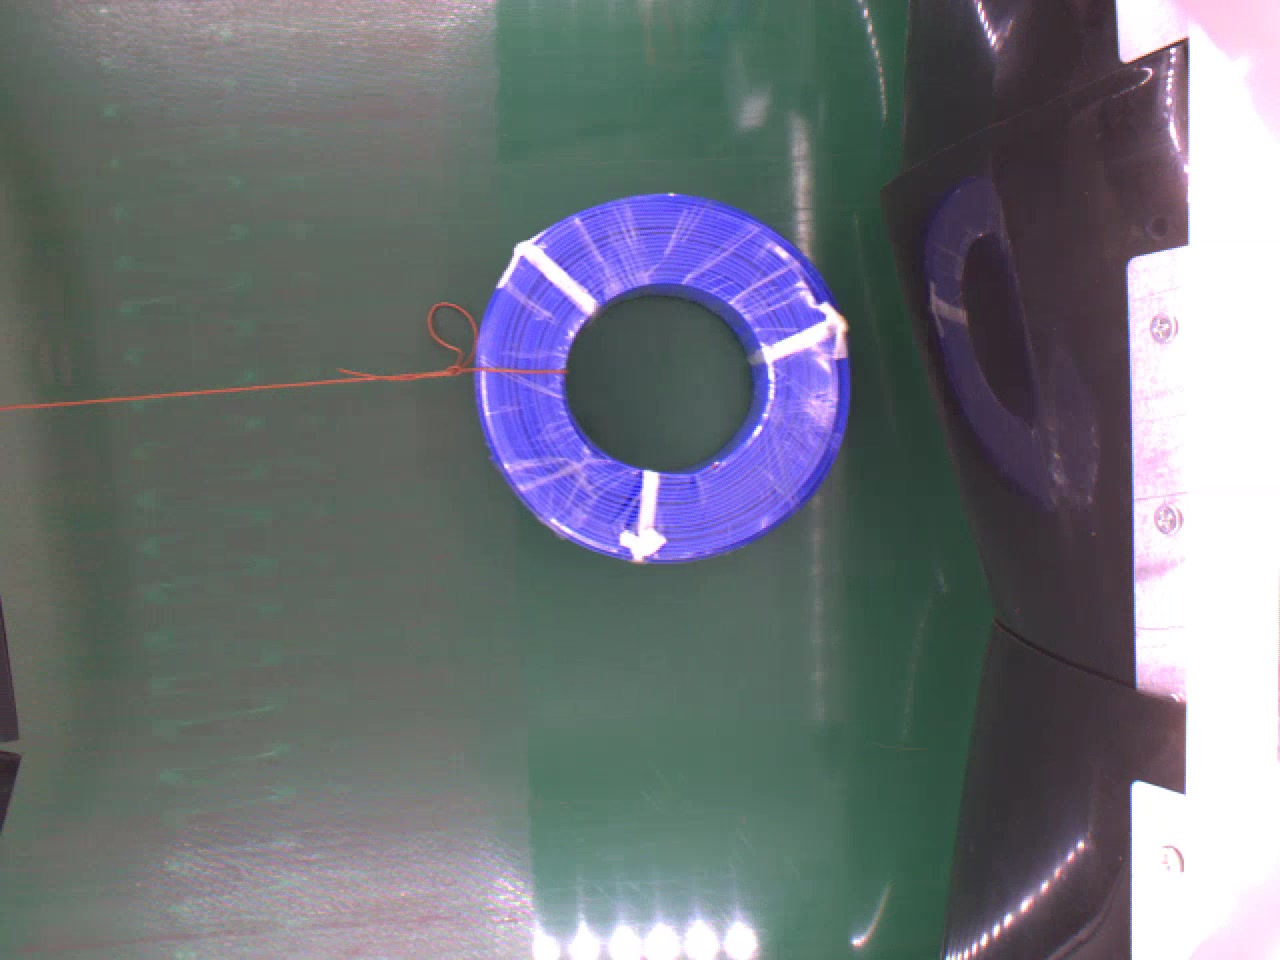blue: (480, 186, 856, 563)
